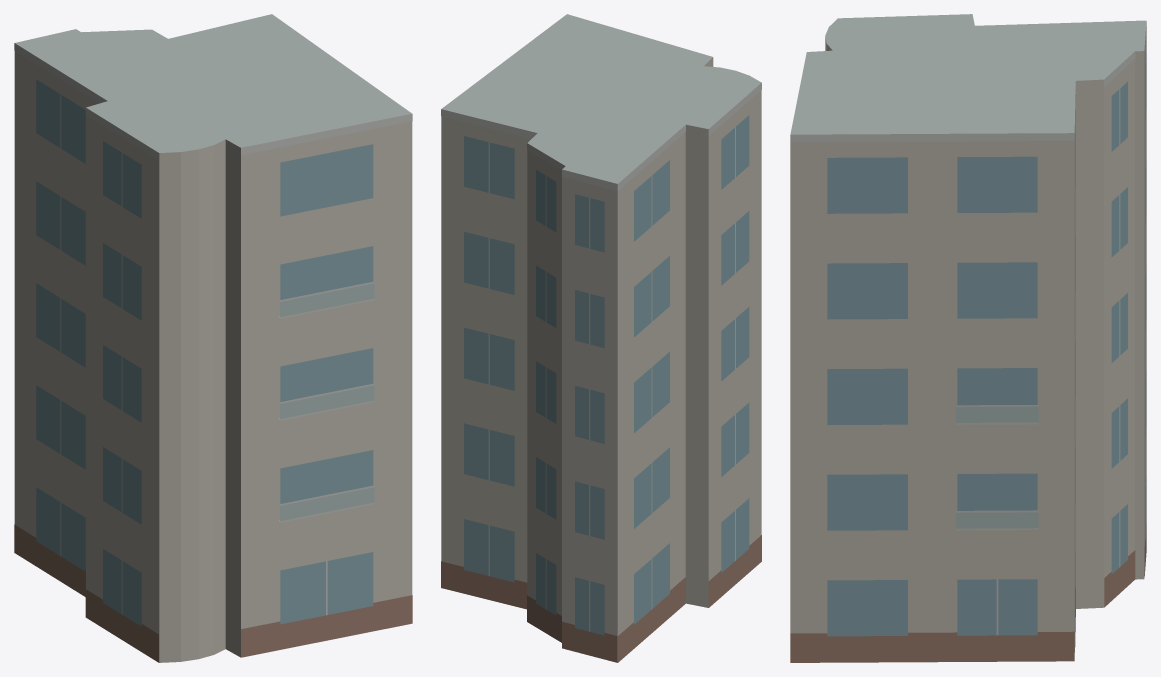
The model's file is survey-upis-33035312.glb.
3 renders of one model, left to right at view 1: azimuth 30°, elevation 25°; view 2: azimuth 150°, elevation 25°; view 3: azimuth 270°, elevation 25°, orthographic. The views are drawn at different scales.
Parts seen in each view (by area): view 1: survey-upis-33035312.tmp; view 2: survey-upis-33035312.tmp; view 3: survey-upis-33035312.tmp.
Part boxes in pixels (x1,y1,x2,y2): survey-upis-33035312.tmp: (14,14,412,662); survey-upis-33035312.tmp: (441,14,761,662); survey-upis-33035312.tmp: (790,14,1146,662).
Bounding box in the file's own units: 8.09 × 16.5 × 10.1.
